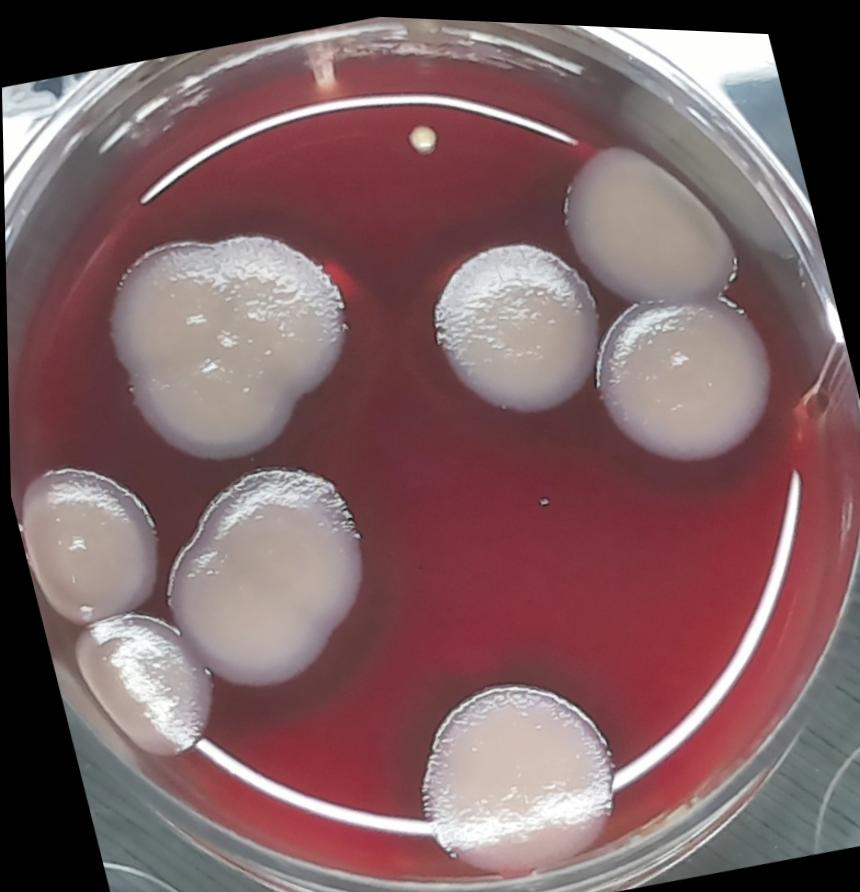bcereus: (64, 177, 391, 498), (129, 422, 407, 720), (384, 201, 632, 461), (564, 257, 804, 501), (531, 94, 756, 326), (50, 587, 234, 791), (7, 423, 174, 631)
